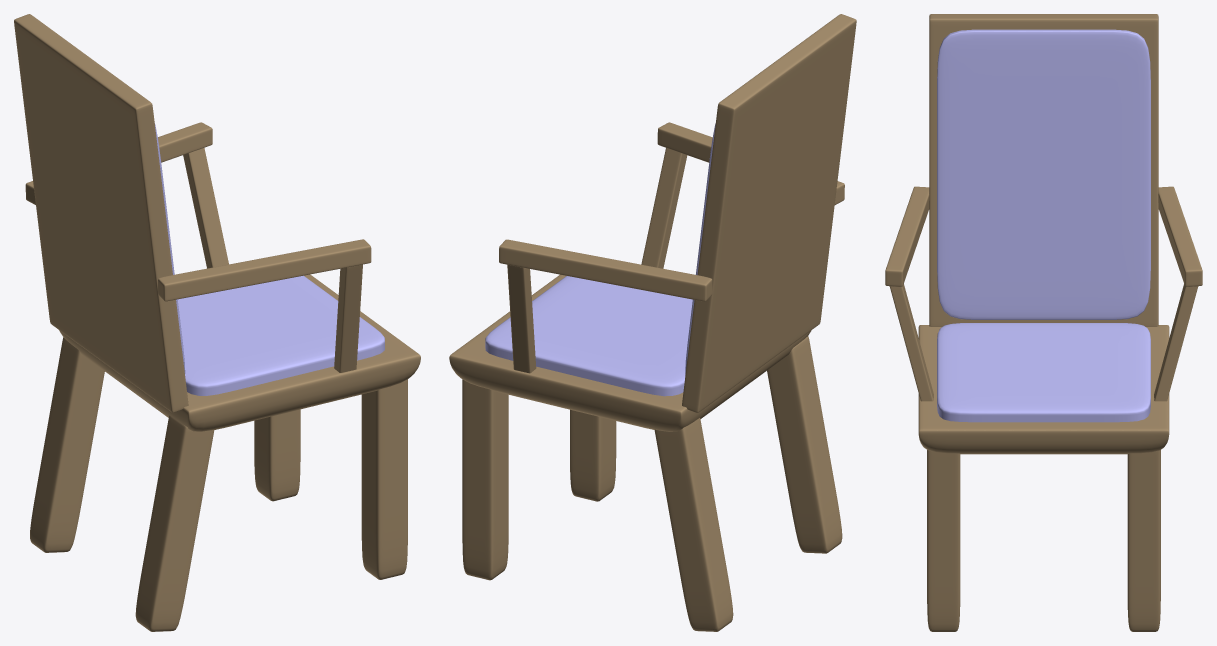
The model's file is Chair.fbx.
3 views of the same model, side by side, from view 1: azimuth 30°, elevation 25°; view 2: azimuth 150°, elevation 25°; view 3: azimuth 270°, elevation 25° (orthographic). The views are drawn at different scales.
Visible parts, largest first — view 1: Chair; view 2: Chair; view 3: Chair.
Boxes of the visible parts, x1,y1,x2,y2 form: Chair: (14,14,420,631); Chair: (449,14,856,631); Chair: (885,14,1202,631).
Bounding box in the file's own units: 9.02 × 16.47 × 9.49.
